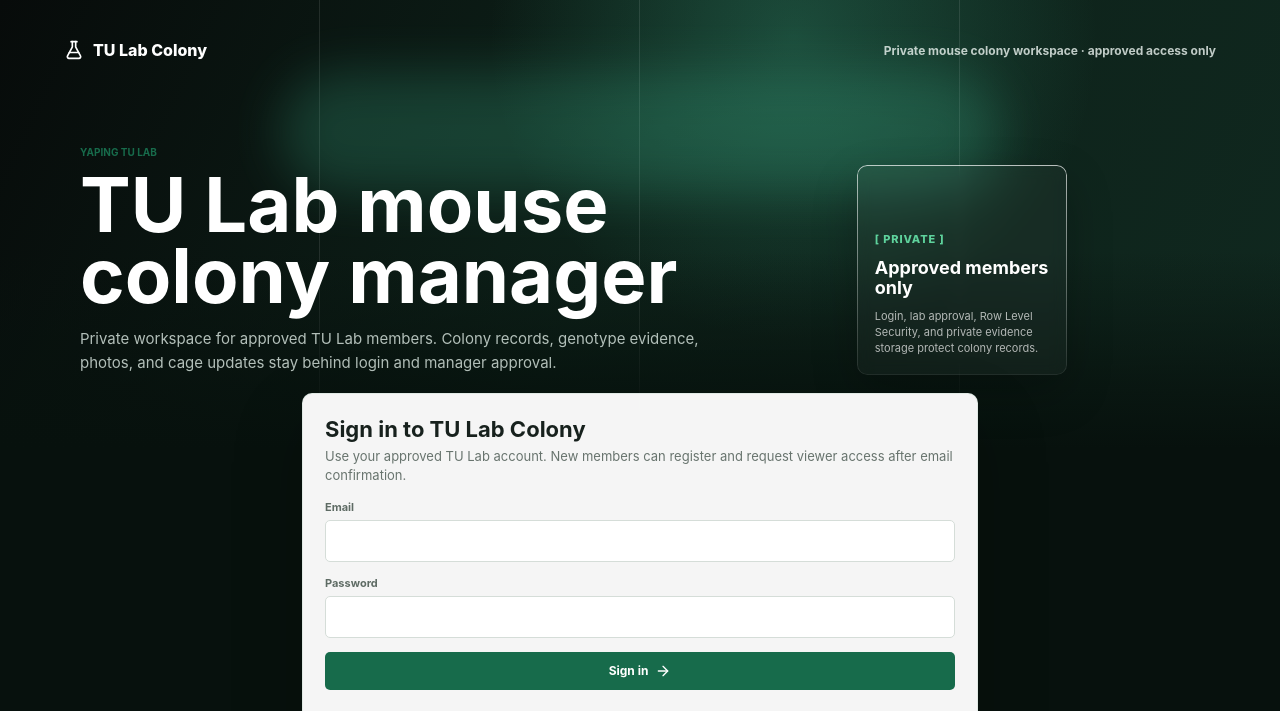
Scenario: TU Lab Colony production auth › lets an approved Supabase member sign in and opens the colony dashboard
The image size is (1280, 711).
Type "shiwei@gmail.com" into the field labelled "Email" at (640, 541), box [325,520,955,562]
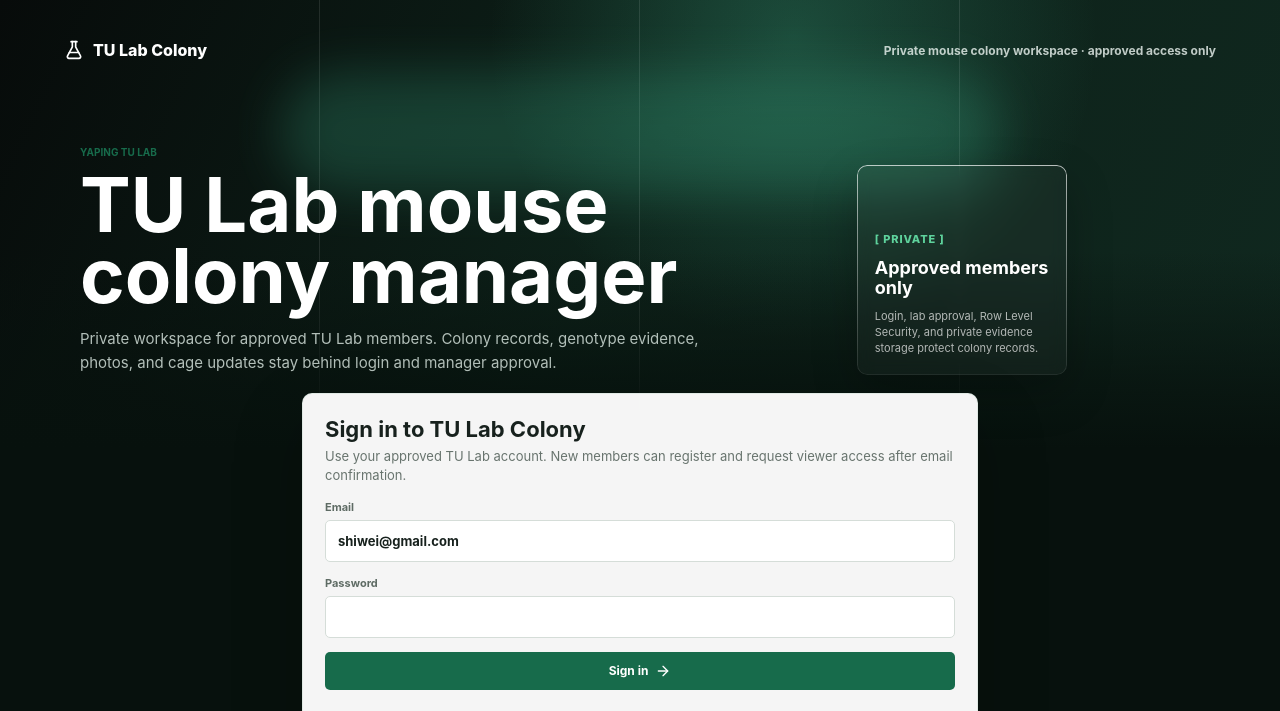
Type "secret-password" into the password field labelled "Password" at (640, 617), box [325,596,955,638]
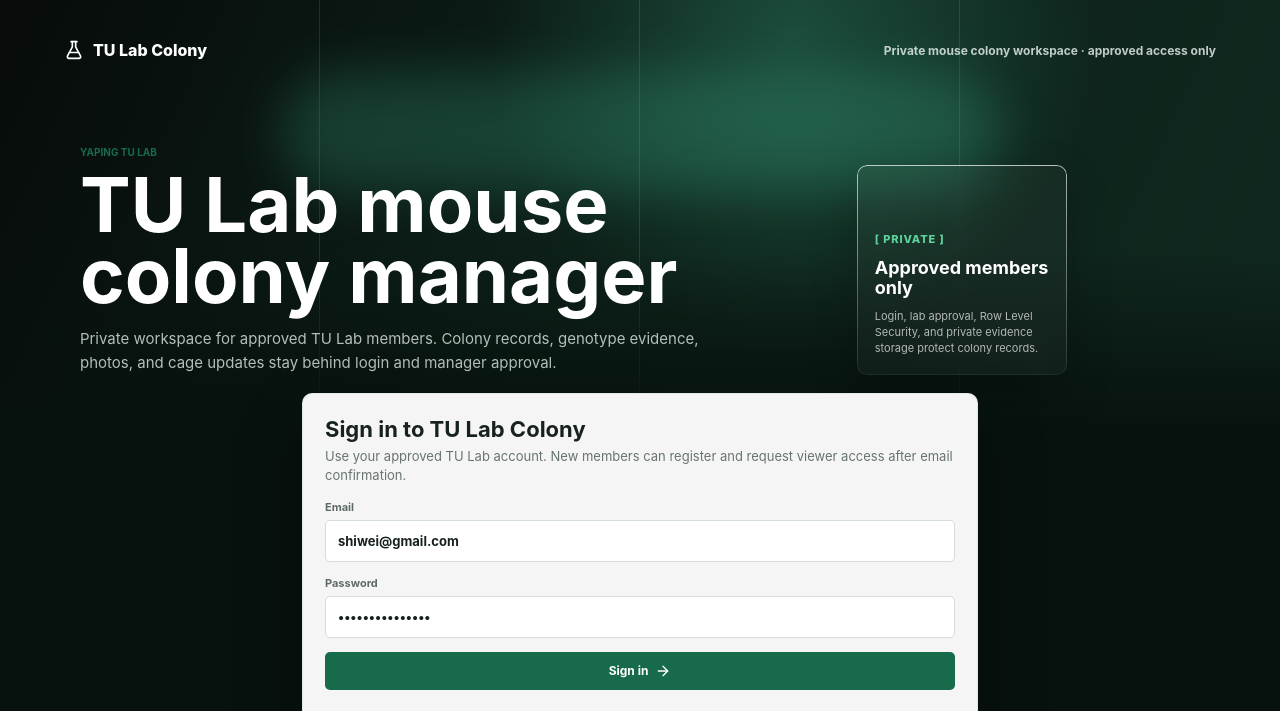
Click the button "Sign in" at (640, 671), box [325,652,955,690]
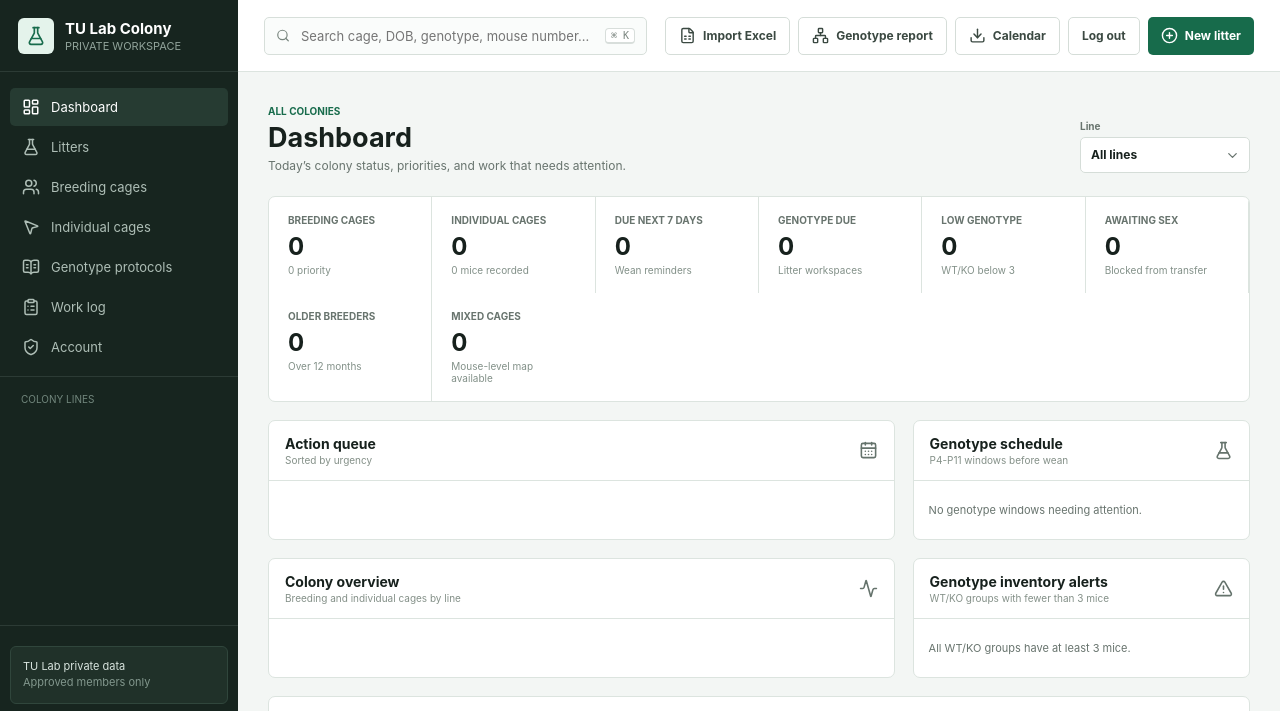
Result: the heading "Colony overview" is shown at [285,573,400,590]
